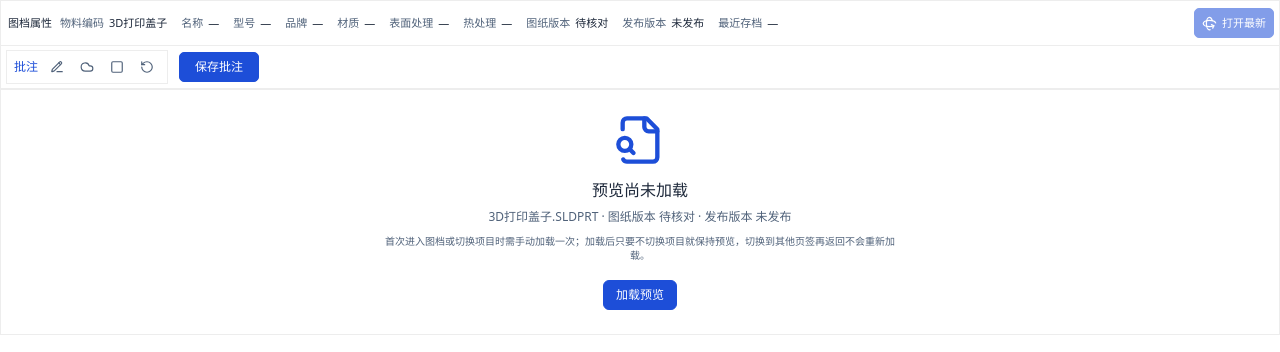
Scenario: PreviewWorkspace 网页端预览版本回退 › 所有版本都没有预览时提示该图档尚未生成预览
Click the button "加载预览".
click(640, 295)  # box [603, 280, 677, 310]
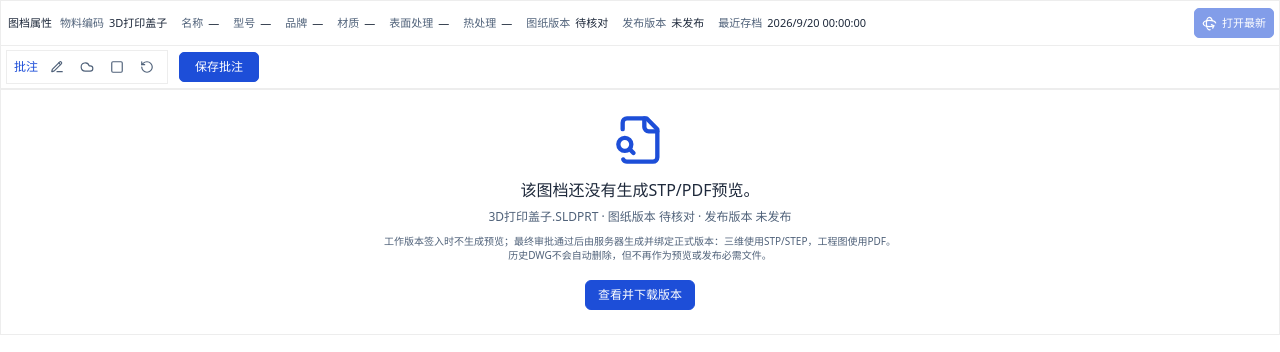
Expected: the text "该图档还没有生成STP/PDF预览" is shown, [520, 179, 760, 201]
